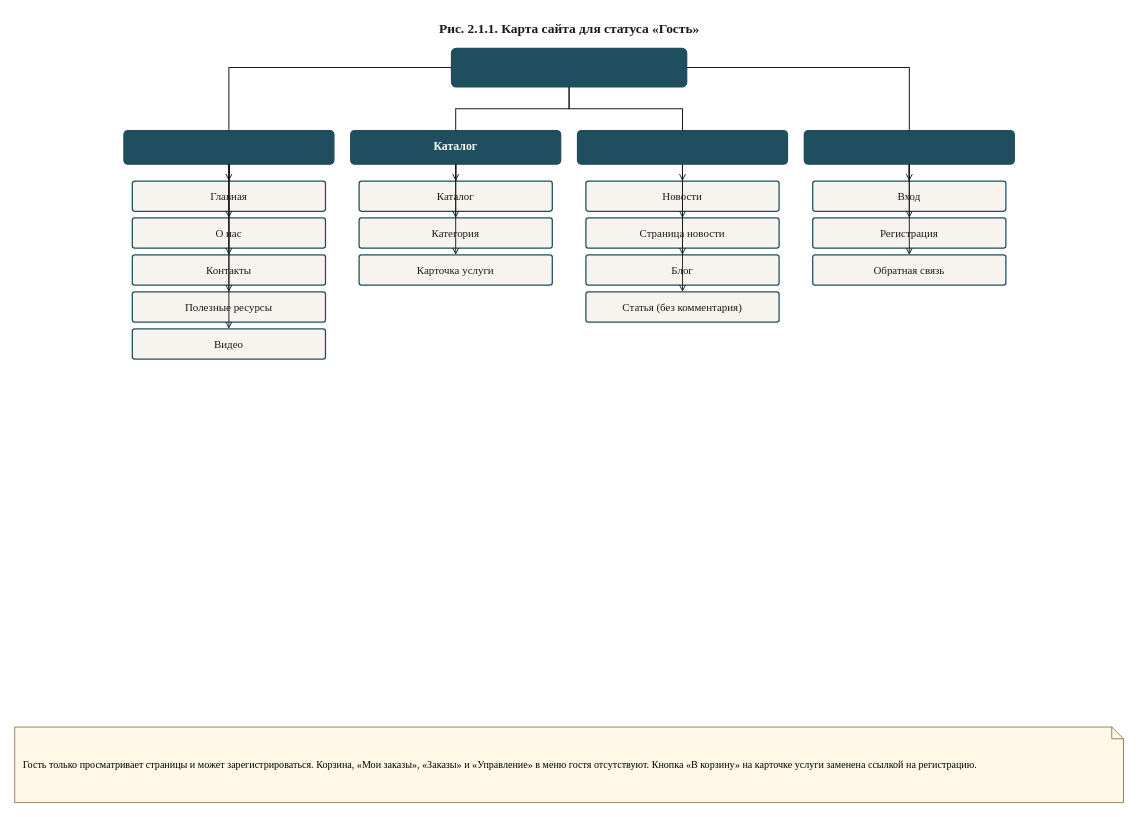
This 1138x817 diagram has some shape labels left out. Each missing label, with the centre of its shape:
"Доступ" goes at point (909, 147).
"Информация" goes at point (228, 147).
"Публикации" goes at point (682, 147).
"Сайт «Пси-Эксперт»" goes at point (568, 67).
